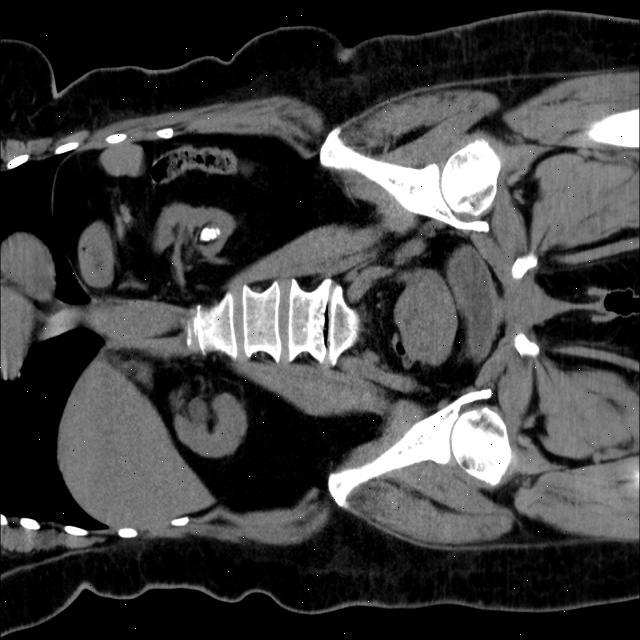kidneystone: (200, 232, 216, 238), (214, 227, 221, 232)
